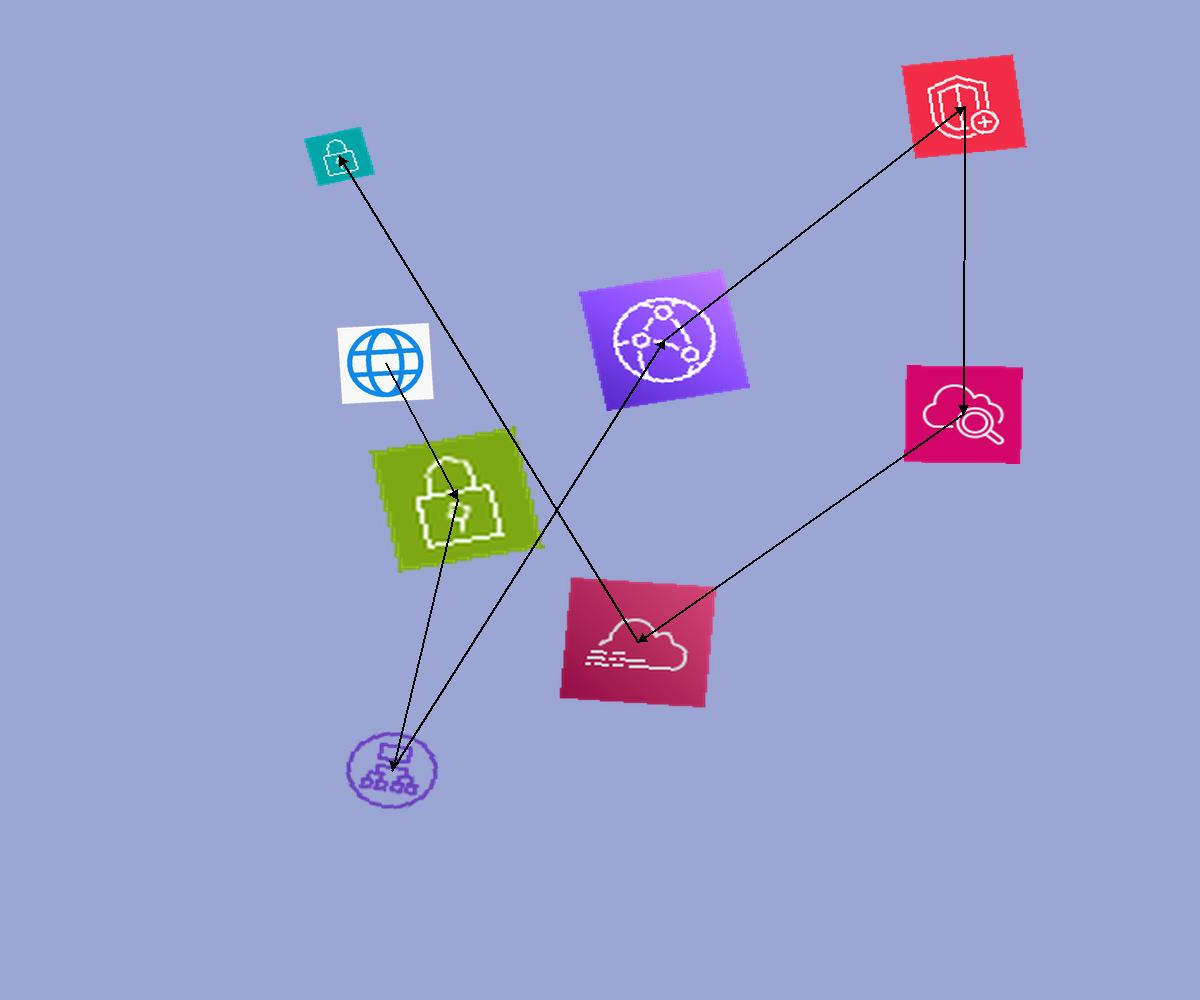AWS-CloudFront: (579, 269, 750, 411)
AWS-CloudTrail: (558, 576, 718, 709)
AWS-CloudWatch: (904, 365, 1023, 464)
AWS-Private-subnet: (303, 126, 376, 187)
AWS-Public-subnet: (369, 426, 545, 573)
AWS-Res_Elastic-Load-Balancing_Application-Load-Balancer: (334, 722, 450, 819)
AWS-Shield: (901, 54, 1027, 159)
Azure_http: (337, 323, 434, 404)
